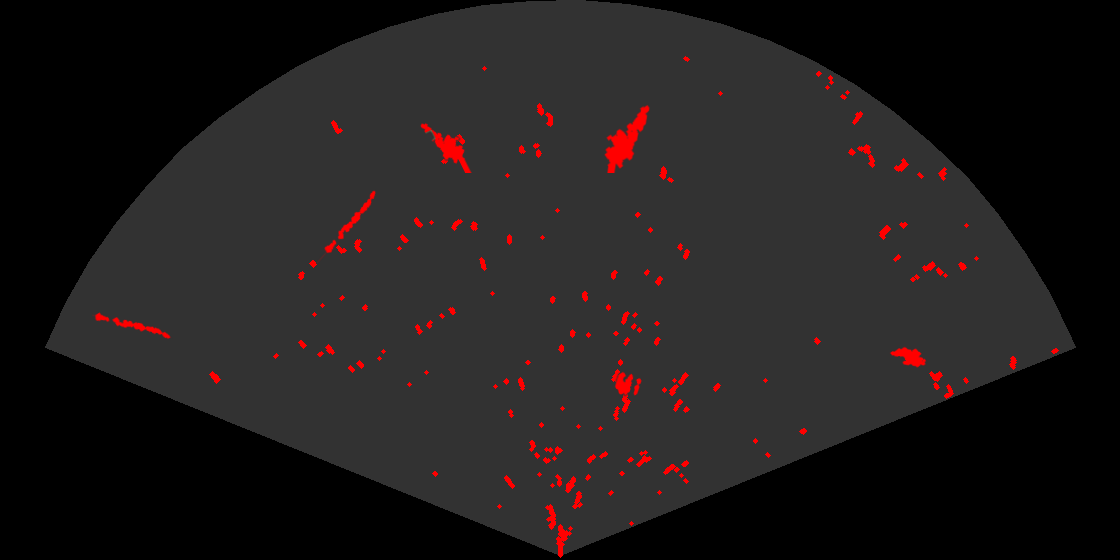AUV: (888, 345, 928, 369)
ball: (613, 370, 643, 397)
chain: (317, 189, 377, 264), (92, 311, 173, 340)
frogman: (603, 103, 651, 173), (419, 121, 473, 173)
